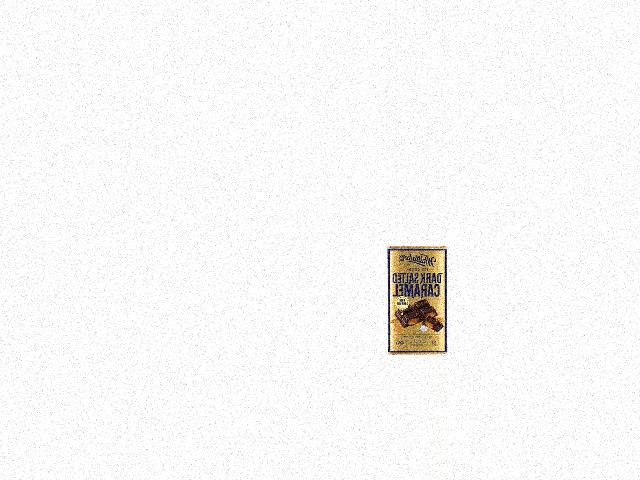chocolate: (382, 247, 449, 357)
